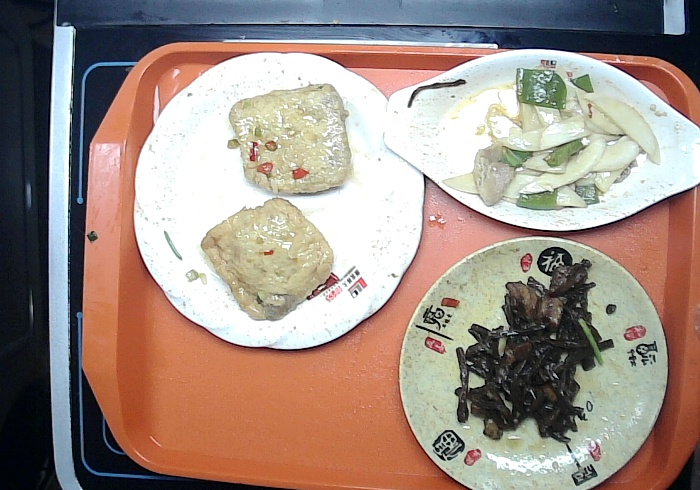NLDX-Bai_Zhe_Yuan_Pan: (133, 51, 426, 351)
NLDX-Fu_Zi_Yuan_Pan: (399, 237, 671, 490)
NLDX-Yu_Pan: (384, 46, 700, 231)
